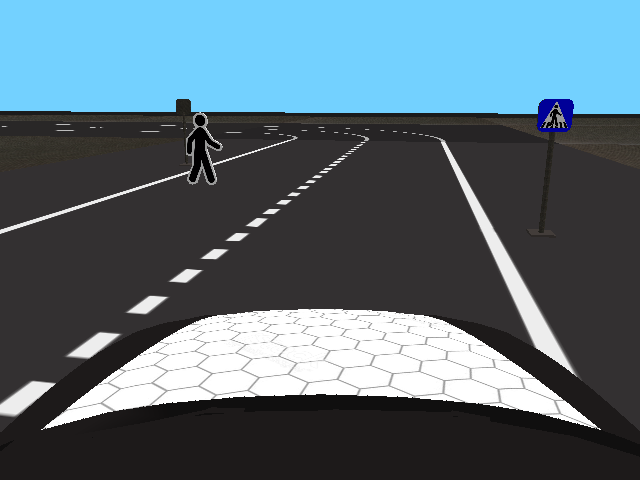pedestrian: (184, 111, 222, 185)
pedestrian_cross: (537, 99, 575, 133)
